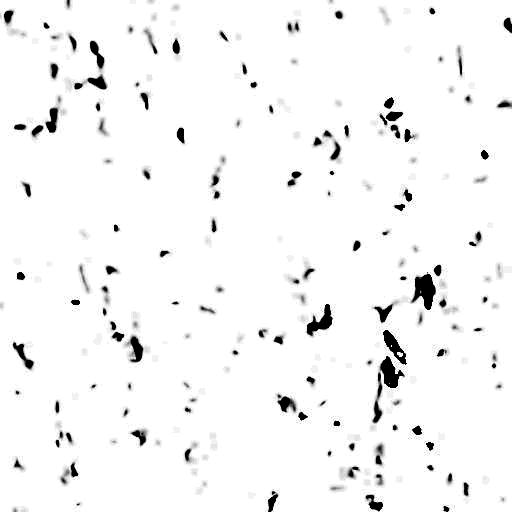egg: (384, 330, 404, 363), (308, 305, 330, 331), (383, 358, 398, 387), (421, 275, 433, 309)
